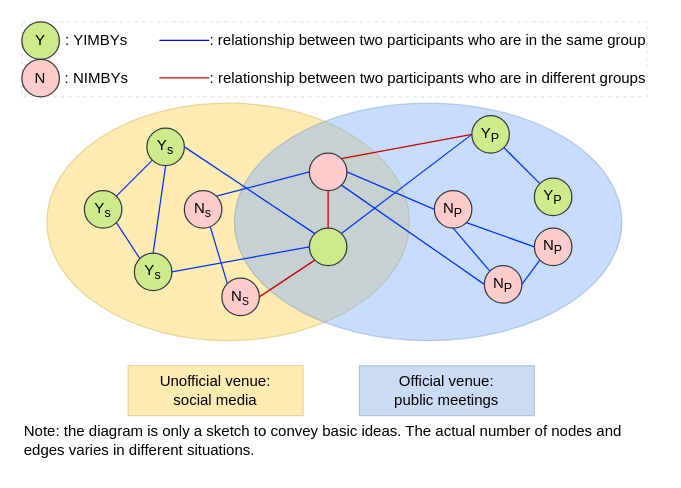
The diagram is 681 pixels wide and 488 high, and some of its shapes have lost their labels. Here are the shapes that lost their labels. From the top down, the box of each, then its label:
(308, 152, 347, 191): N SP
(308, 227, 347, 266): Y SP
